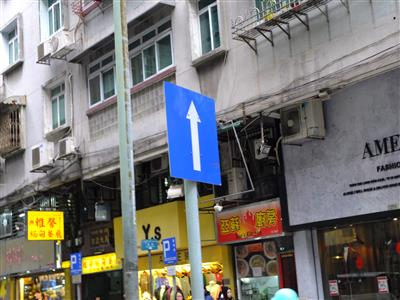oneway: (153, 72, 228, 195)
